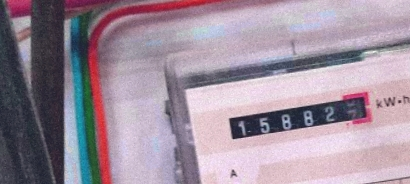1: (236, 119, 248, 138)
2: (323, 104, 336, 122)
5: (256, 116, 271, 134)
7: (345, 107, 358, 121)
8: (279, 112, 292, 130), (302, 109, 314, 126)
screen: (220, 88, 379, 146)
